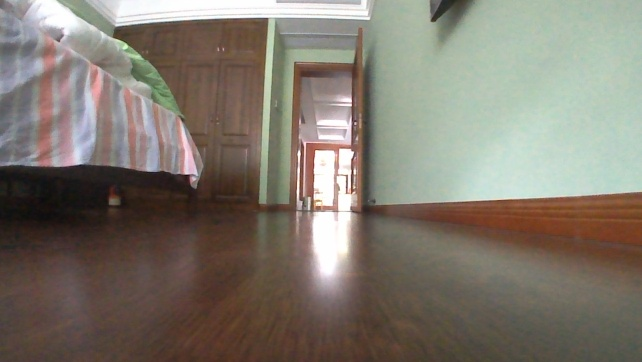bed1: (0, 0, 205, 208)
door_anno: (348, 23, 372, 215)
